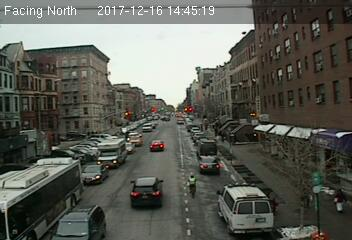bicycle: (186, 173, 198, 199)
bus: (1, 157, 84, 239)
car: (46, 204, 106, 240), (129, 176, 166, 208), (81, 165, 108, 184), (200, 157, 219, 171), (149, 140, 165, 150)
police: (214, 182, 275, 235)
truck: (97, 137, 127, 167)
